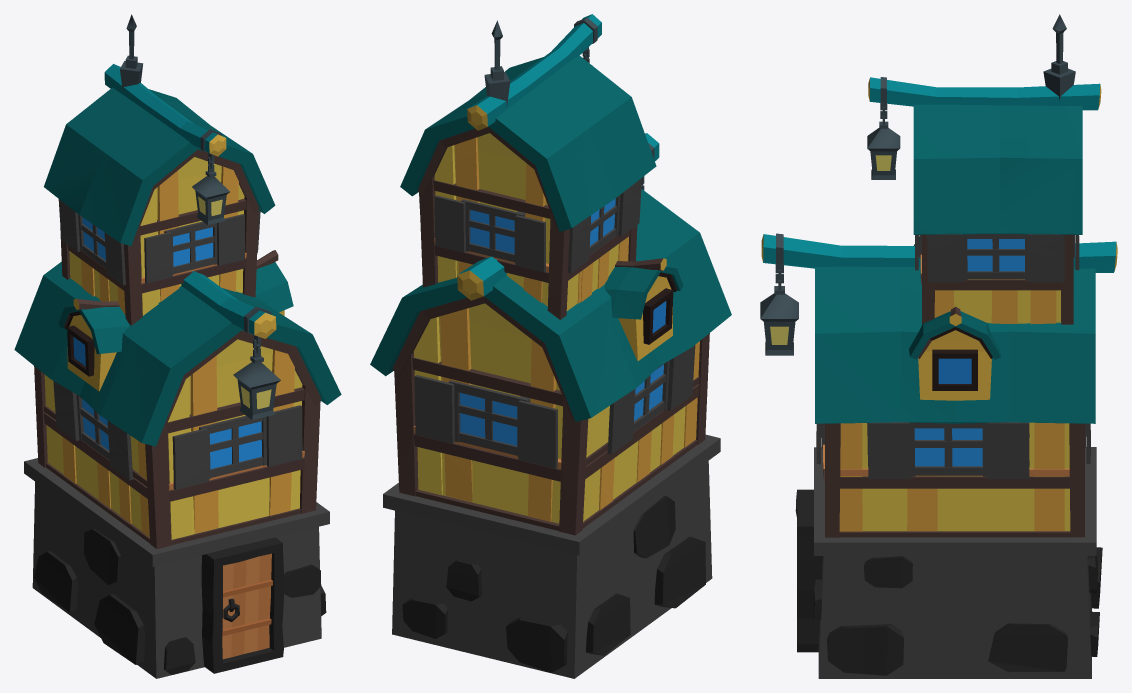
File: House_1-5.fbx
3 views of the same model, side by side, from view 1: azimuth 30°, elevation 25°; view 2: azimuth 150°, elevation 25°; view 3: azimuth 270°, elevation 25° (orthographic). The views are drawn at different scales.
Parts seen in each view (by area): view 1: Village_BG_Bd_Dock01_A.006; view 2: Village_BG_Bd_Dock01_A.006; view 3: Village_BG_Bd_Dock01_A.006.
Boxes of the visible parts, x1,y1,x2,y2 form: Village_BG_Bd_Dock01_A.006: [14, 14, 341, 678]; Village_BG_Bd_Dock01_A.006: [370, 14, 731, 678]; Village_BG_Bd_Dock01_A.006: [760, 14, 1117, 678].
Size of the model in its own units: 321 by 853 by 445.
